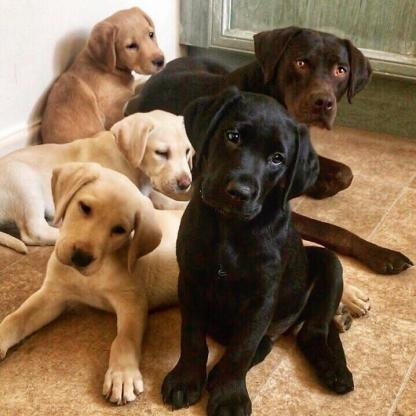Labarador Retriever: (135, 29, 413, 277), (162, 88, 354, 411), (3, 161, 186, 402), (2, 112, 189, 252), (40, 6, 162, 140)
